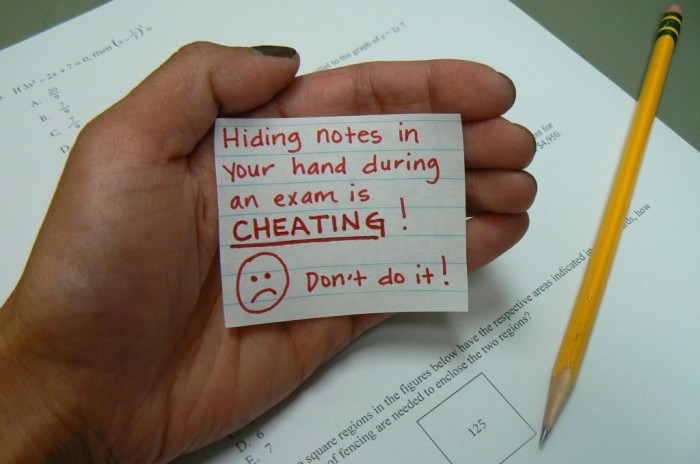Note: (212, 113, 472, 329)
